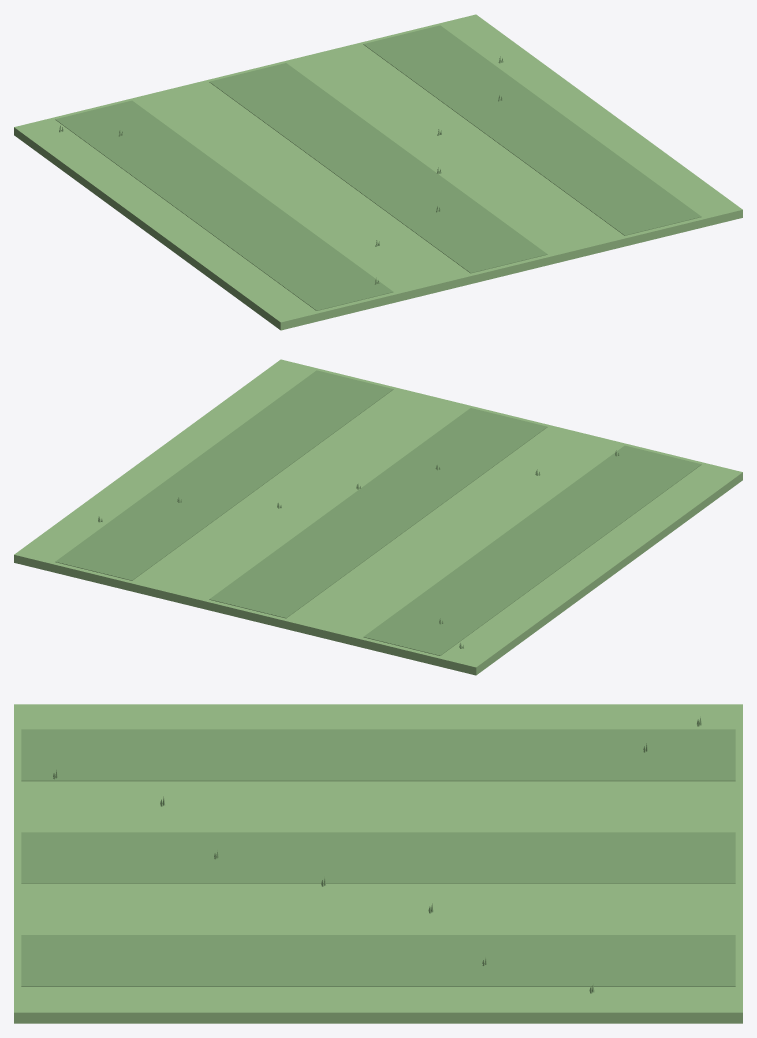
Rendered from racecourse-and-parade-ring-turf-track-straight-85a45c4b__38592.glb.
3 views of the same model, one above another, from view 1: azimuth 30°, elevation 25°; view 2: azimuth 150°, elevation 25°; view 3: azimuth 270°, elevation 25° (orthographic). The views are drawn at different scales.
Parts seen in each view (by area): view 1: turf-track-straight; view 2: turf-track-straight; view 3: turf-track-straight.
Part boxes in pixels (left/top/right/bottom): turf-track-straight: left=14, top=14, right=742, bottom=330; turf-track-straight: left=14, top=359, right=742, bottom=675; turf-track-straight: left=14, top=704, right=742, bottom=1023.
Bounding box in the file's own units: 12 × 0.36 × 12.
